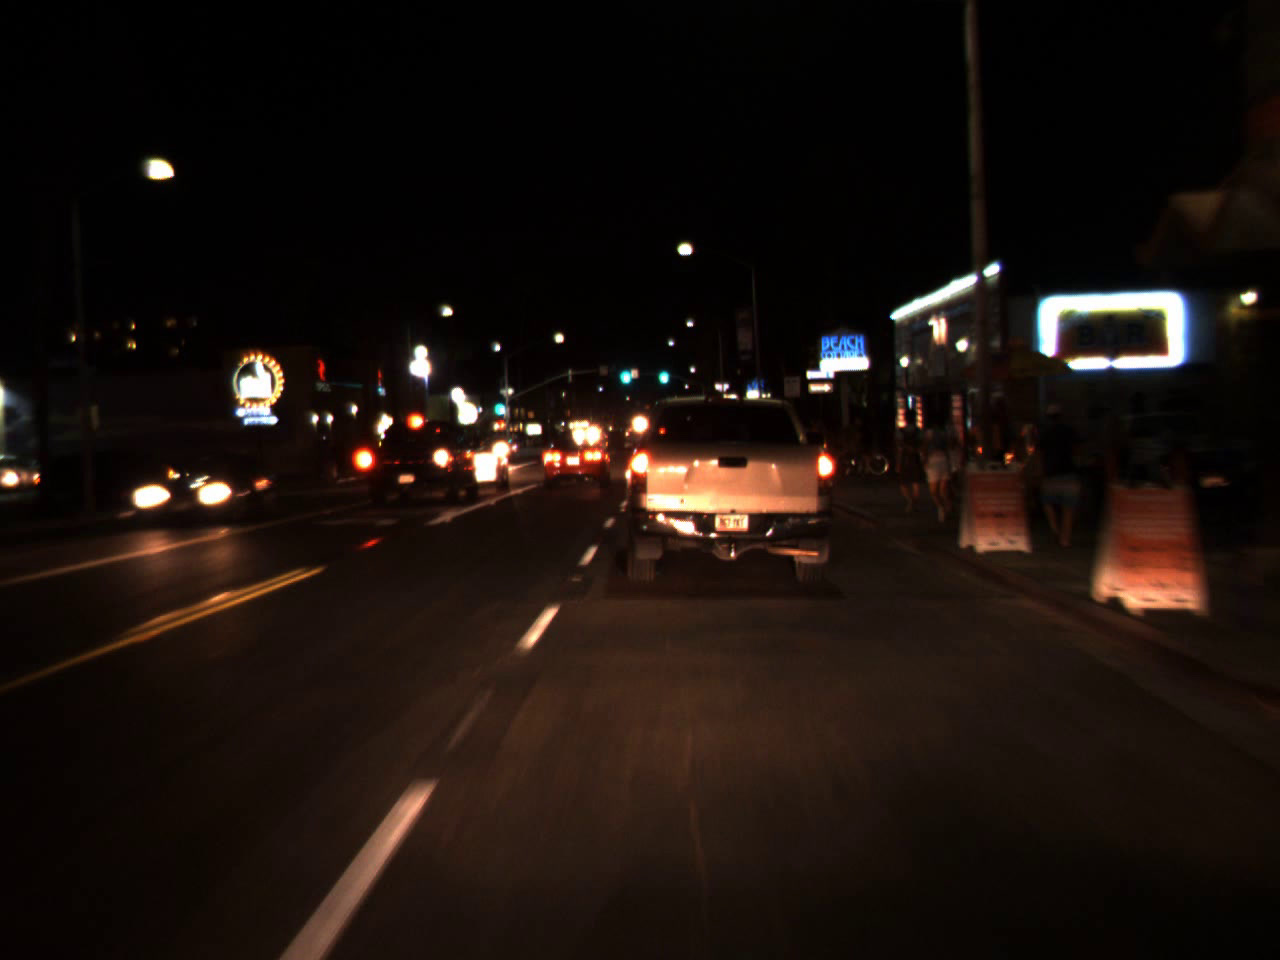go: (615, 355, 634, 388), (491, 387, 505, 419), (656, 359, 670, 386)
